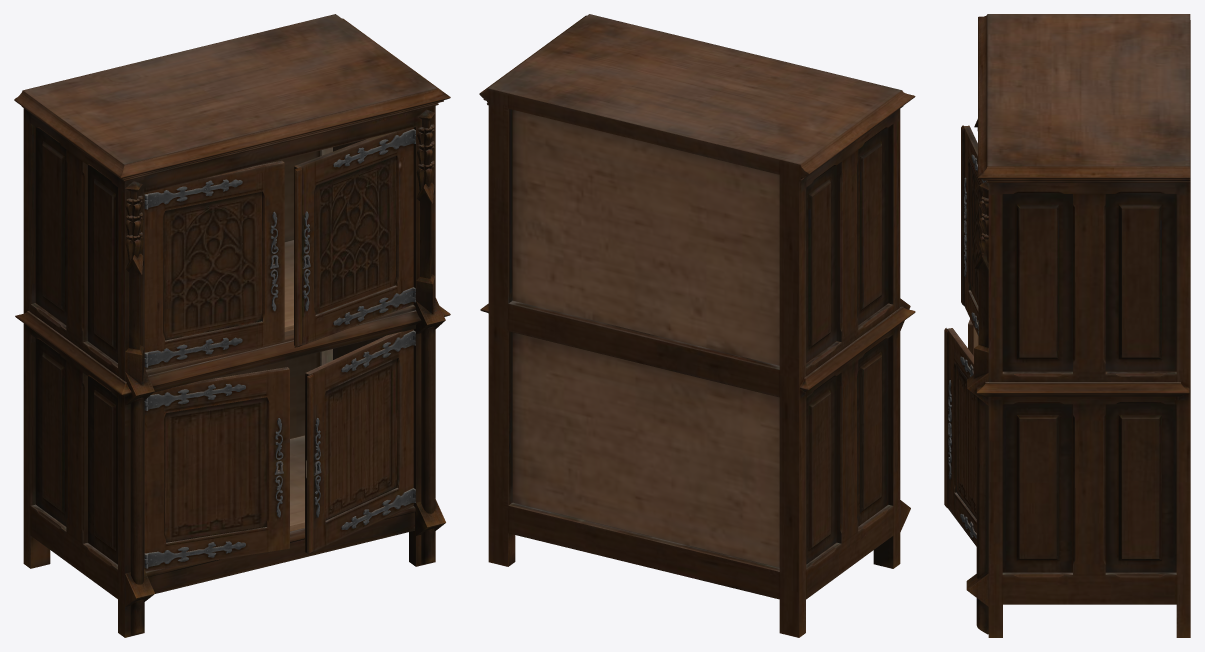
The model's file is gothic_cabinet_01.glb.
The picture shows the model from 3 angles, left to right: view 1: azimuth 30°, elevation 25°; view 2: azimuth 150°, elevation 25°; view 3: azimuth 270°, elevation 25°; orthographic projection.
Visible parts, largest first — view 1: GothicCabinet_01_cabinet, GothicCabinet_01_door3, GothicCabinet_01_door1, GothicCabinet_01_door2, GothicCabinet_01_door4; view 2: GothicCabinet_01_cabinet; view 3: GothicCabinet_01_cabinet, GothicCabinet_01_door4, GothicCabinet_01_door2.
Part boxes in pixels (box(x1,y1,x2,y2)): GothicCabinet_01_cabinet: box(14, 14, 450, 637); GothicCabinet_01_door3: box(144, 367, 289, 571); GothicCabinet_01_door1: box(144, 160, 284, 369); GothicCabinet_01_door2: box(294, 127, 415, 347); GothicCabinet_01_door4: box(305, 329, 415, 554); GothicCabinet_01_cabinet: box(479, 14, 915, 637); GothicCabinet_01_cabinet: box(966, 14, 1190, 637); GothicCabinet_01_door4: box(944, 328, 976, 546); GothicCabinet_01_door2: box(961, 125, 986, 335).
Size of the model in its own units: 1.72 by 2.36 by 1.12.
Materials: 1 (1 with a texture image).
